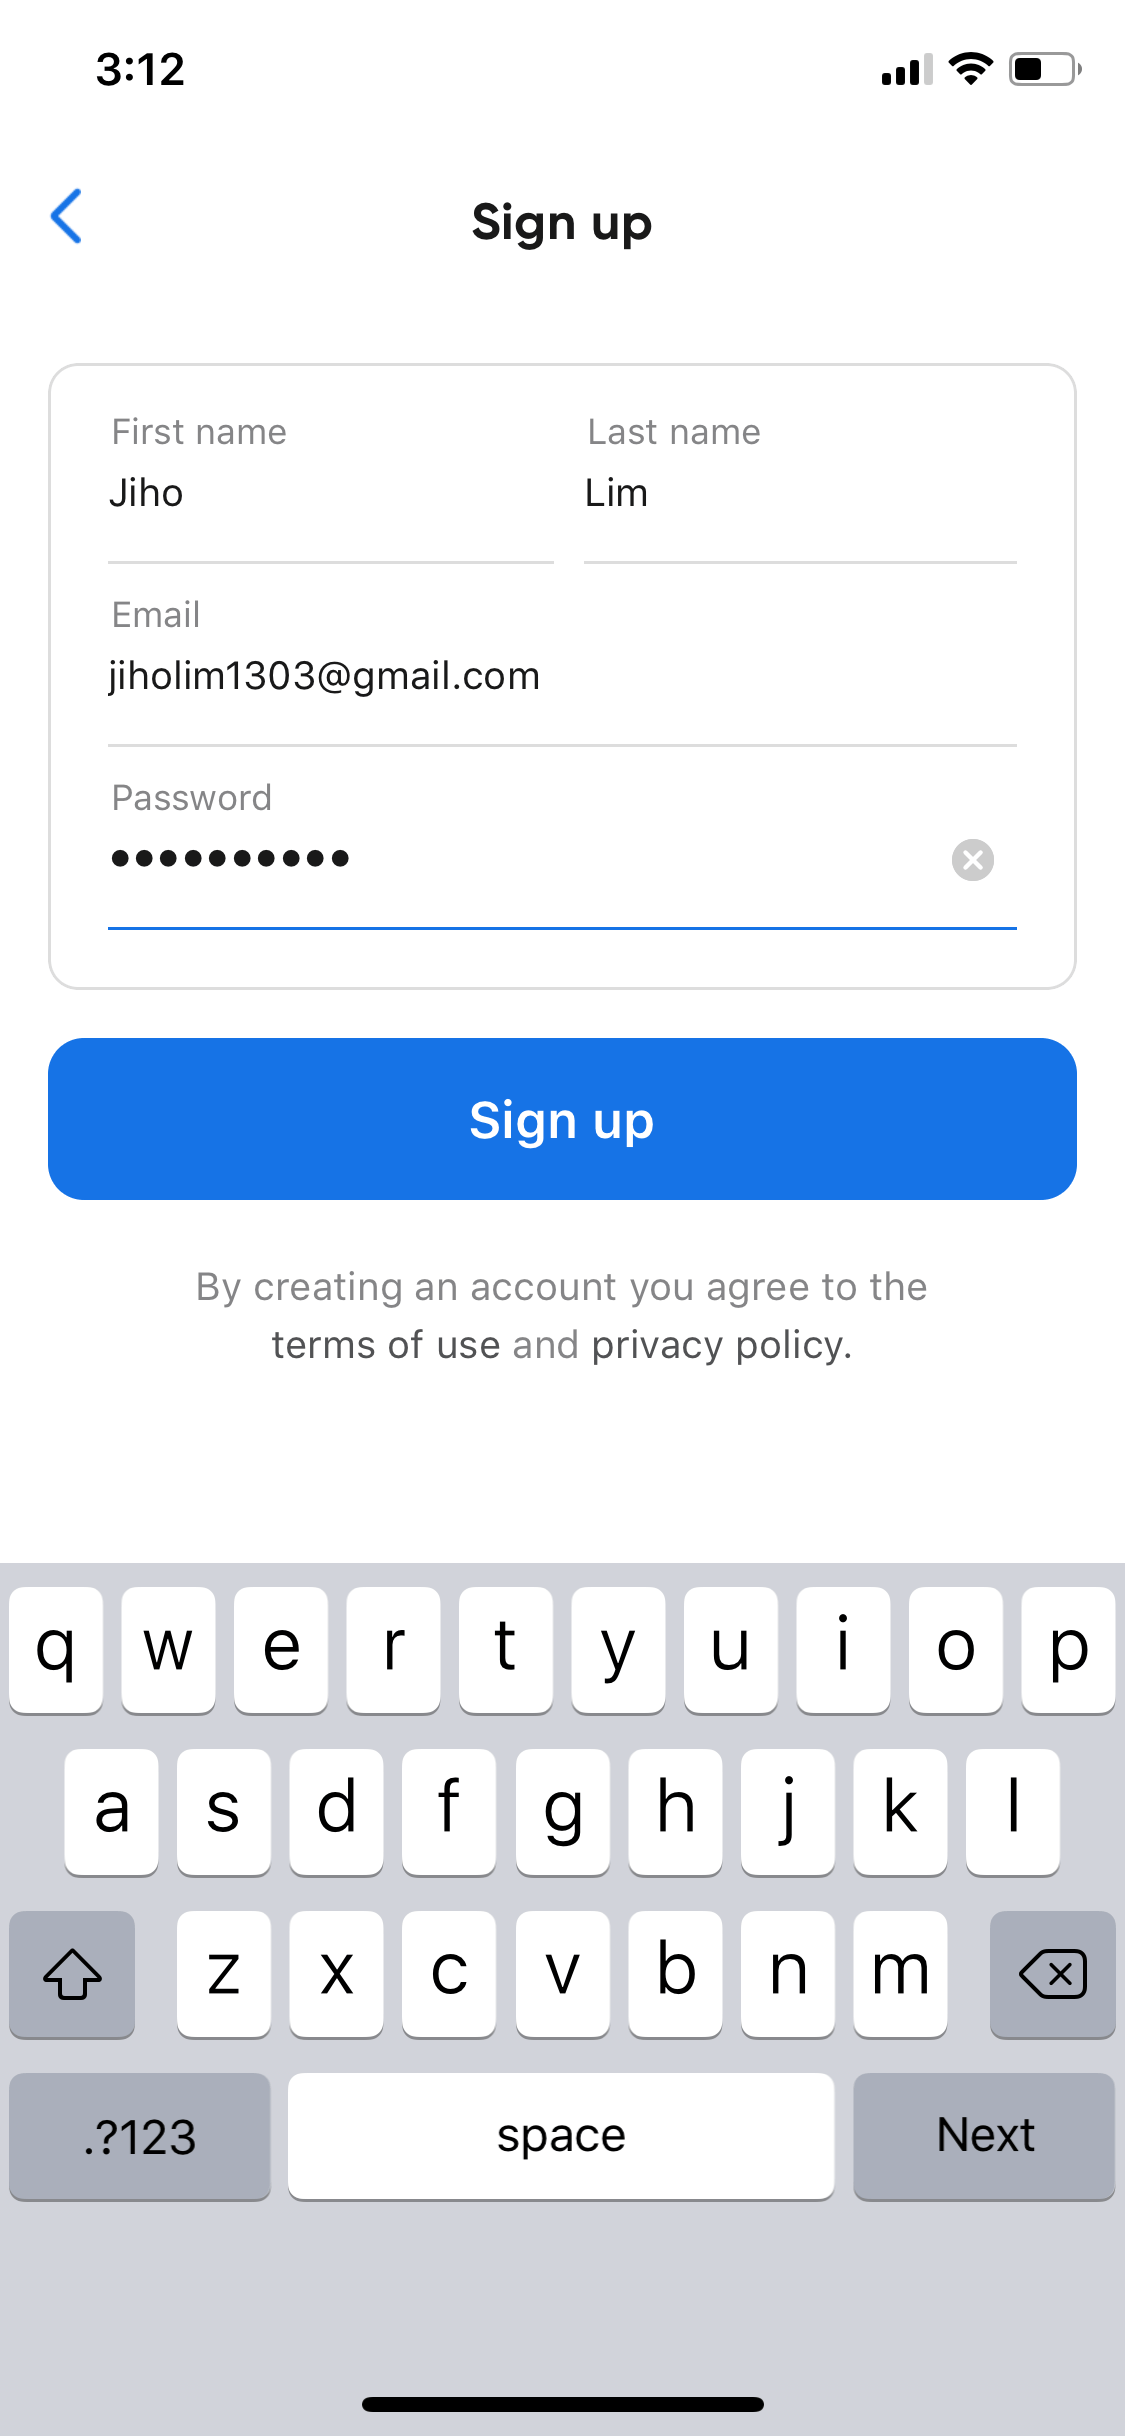Buttons: (39, 1014, 1089, 1213), (16, 148, 131, 269)
Text Fields: (81, 761, 1024, 951), (79, 579, 1026, 753), (75, 398, 558, 575), (556, 398, 1022, 565)
